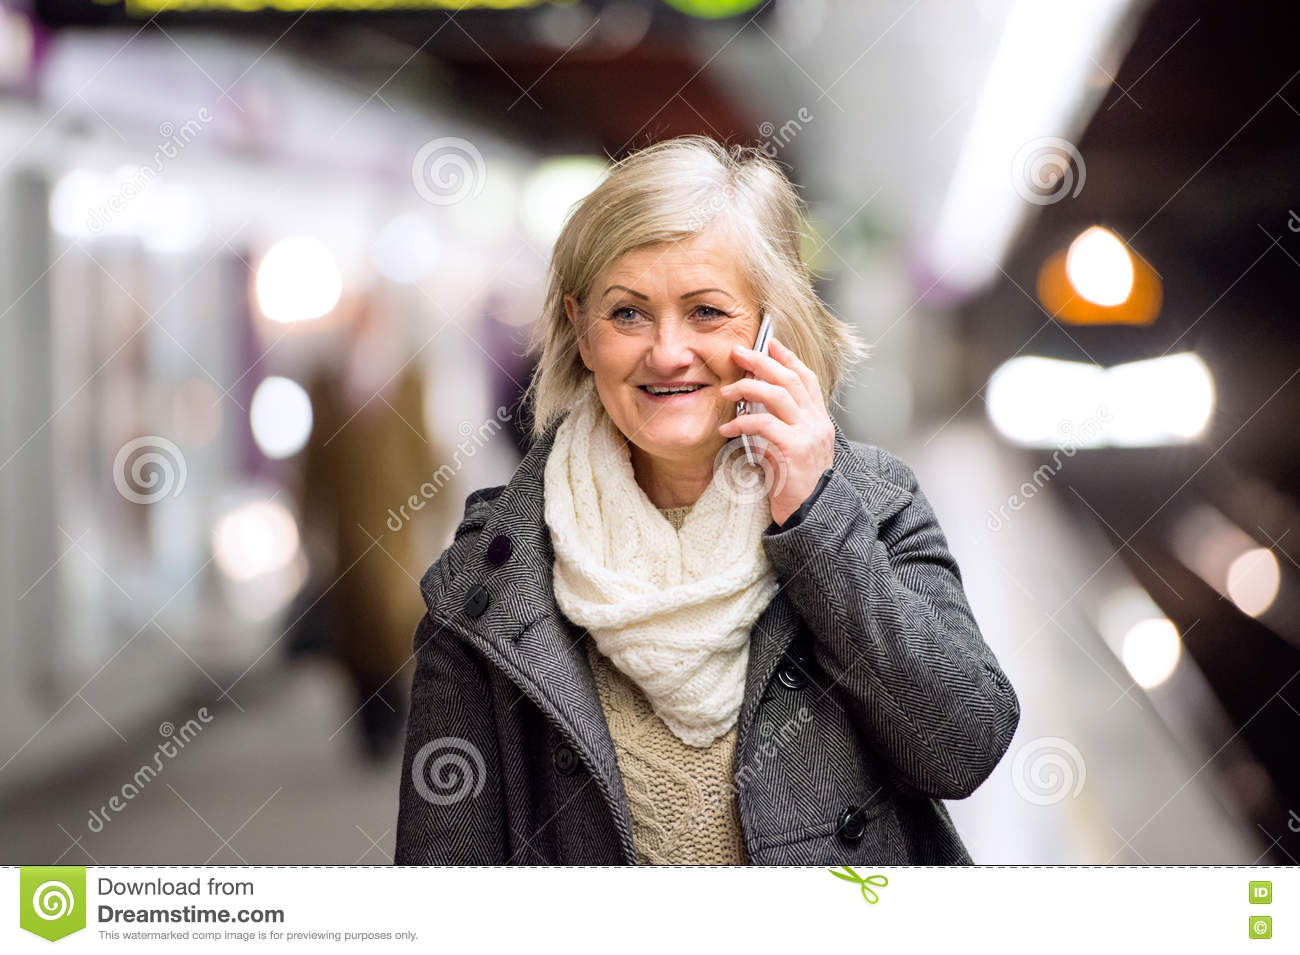phone: (742, 315, 777, 471)
talk: (593, 272, 840, 516)
